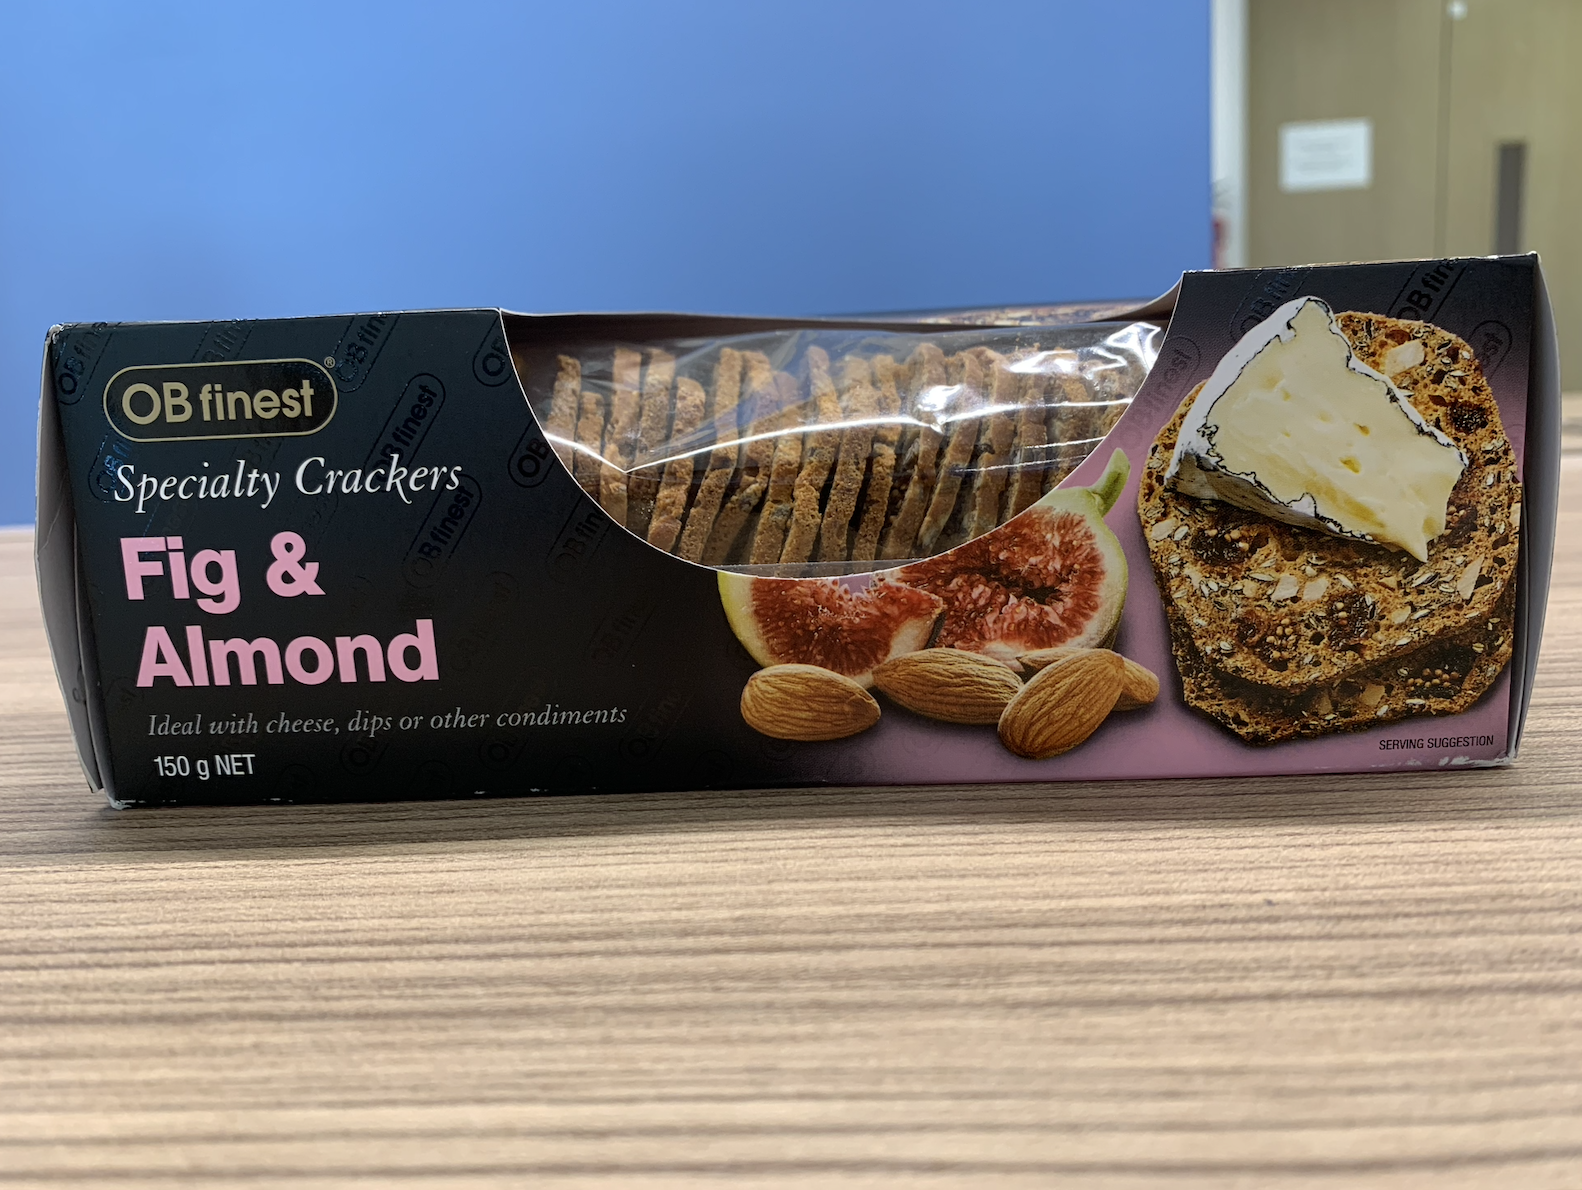crackers_150g: (92, 337, 1487, 784)
